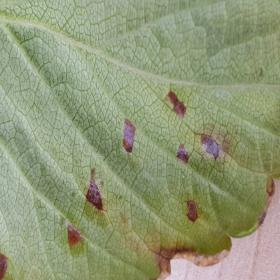Angular Leafspot: (0, 89, 277, 279)
